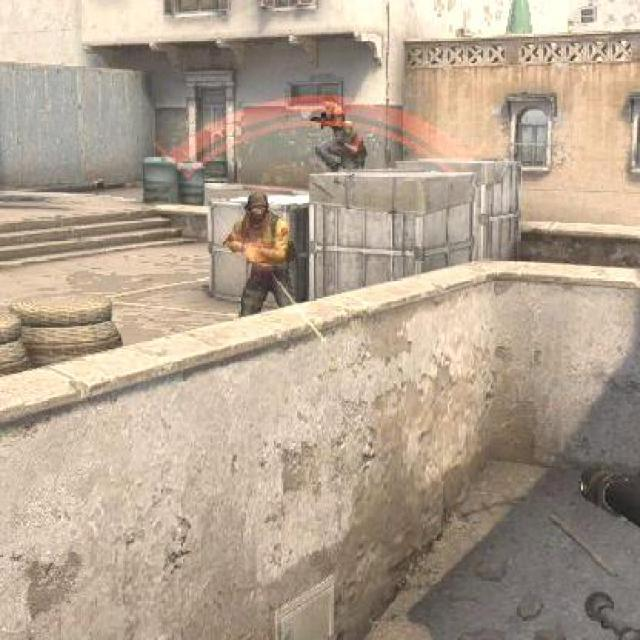Dead: (242, 192, 276, 225), (323, 102, 351, 120)
T-Body: (225, 190, 306, 312)
